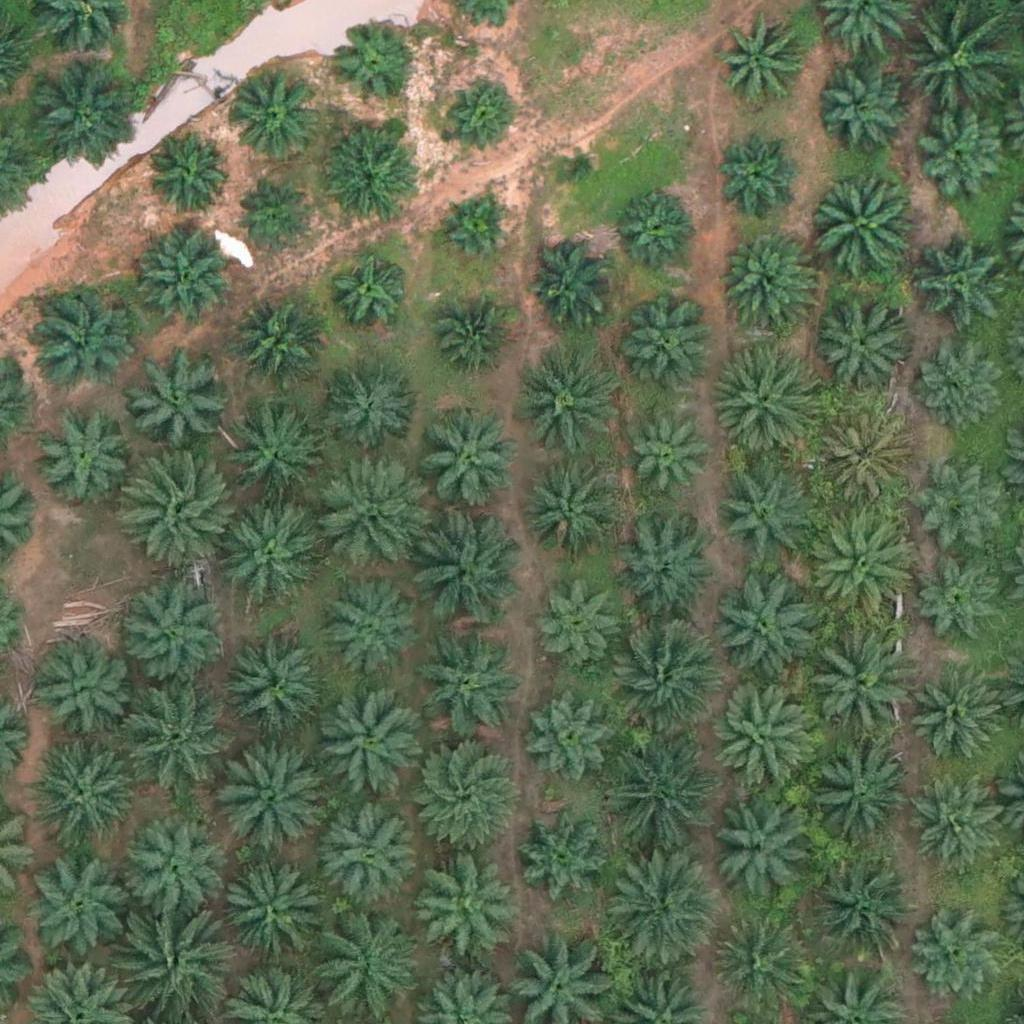Kelapa_Sawit: (312, 454, 425, 568), (404, 732, 517, 845), (311, 689, 424, 802), (22, 733, 135, 846), (605, 615, 717, 729), (602, 733, 714, 847), (409, 510, 521, 624), (24, 62, 136, 175), (712, 345, 824, 458), (603, 856, 715, 969), (313, 910, 425, 1023), (804, 511, 916, 624), (217, 738, 329, 851), (121, 683, 233, 796), (115, 573, 227, 686), (122, 453, 234, 566), (812, 66, 912, 167), (812, 179, 912, 280), (811, 291, 911, 392), (316, 132, 416, 233), (718, 231, 818, 332), (619, 299, 719, 400), (417, 412, 517, 513), (129, 349, 229, 450), (27, 288, 127, 389), (907, 902, 1007, 1003), (713, 915, 813, 1016), (901, 665, 1001, 766), (907, 772, 1007, 873), (808, 625, 908, 726), (810, 748, 910, 849), (716, 466, 816, 567), (714, 585, 814, 686), (614, 523, 714, 624), (511, 803, 611, 904), (410, 853, 510, 954), (319, 802, 419, 903), (318, 573, 418, 674), (217, 503, 317, 604), (221, 636, 321, 737), (216, 864, 316, 965), (125, 819, 225, 920), (32, 640, 132, 741), (25, 854, 125, 955), (911, 236, 1011, 336), (815, 401, 915, 501), (517, 354, 617, 454), (132, 235, 232, 335), (31, 404, 131, 504), (813, 863, 913, 963), (716, 693, 816, 793), (710, 799, 810, 899), (524, 684, 624, 784), (520, 458, 620, 558), (415, 635, 515, 735), (320, 355, 420, 455), (227, 410, 327, 510), (913, 556, 1001, 645), (915, 113, 1003, 201), (916, 348, 1004, 436), (715, 132, 803, 220), (622, 419, 710, 507), (528, 237, 616, 325), (913, 458, 1001, 546), (536, 579, 624, 667), (721, 16, 808, 105), (333, 20, 420, 108), (232, 300, 319, 388), (428, 301, 515, 389), (612, 178, 699, 266), (227, 69, 314, 157), (145, 132, 232, 220), (330, 254, 405, 330), (436, 194, 511, 270), (442, 77, 517, 153), (240, 185, 315, 260), (553, 138, 603, 188)
